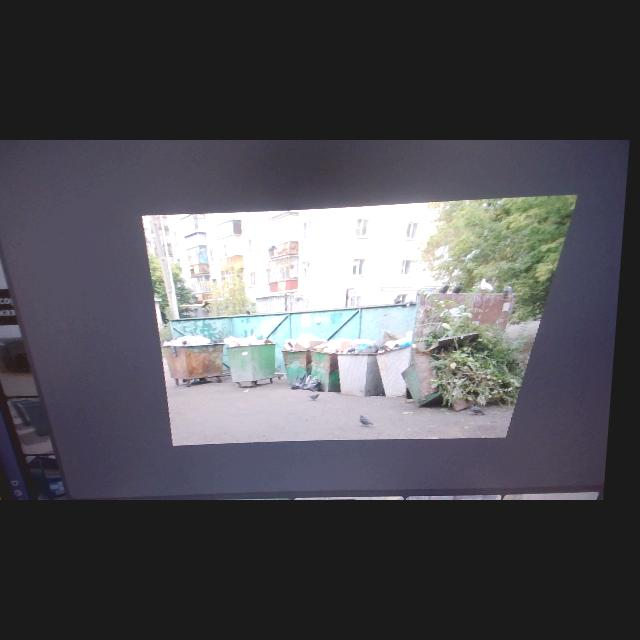Trash_Can_Full: (340, 338, 395, 396), (165, 335, 232, 380), (227, 334, 284, 383), (379, 331, 419, 397), (314, 339, 350, 392), (285, 335, 317, 386)
